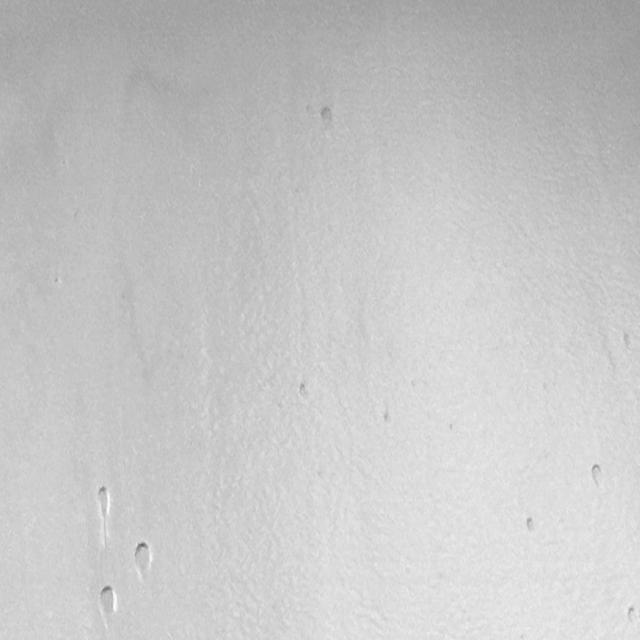pin holes: (90, 484, 114, 527), (96, 586, 122, 620), (132, 540, 154, 578), (587, 461, 608, 490), (314, 104, 336, 130), (295, 378, 313, 402), (624, 603, 640, 629), (622, 330, 638, 354), (522, 514, 538, 536), (381, 409, 393, 426), (52, 274, 64, 288)
